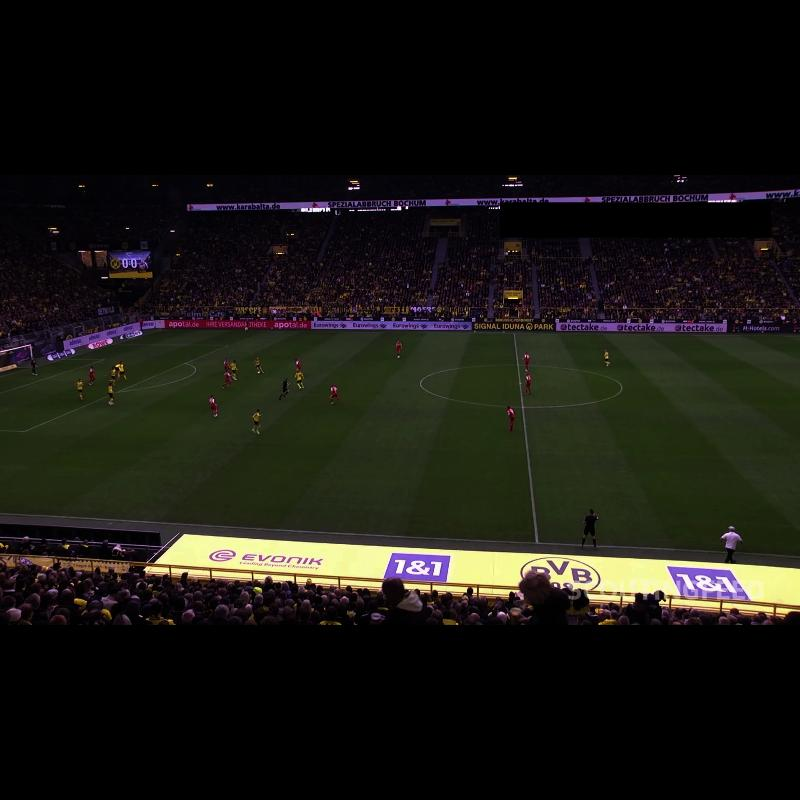cross_recipient_zone: (0, 343, 227, 431)
crossing_player_zone: (0, 430, 129, 513), (115, 330, 318, 345), (723, 334, 800, 352)
pitch: (0, 331, 800, 558)
